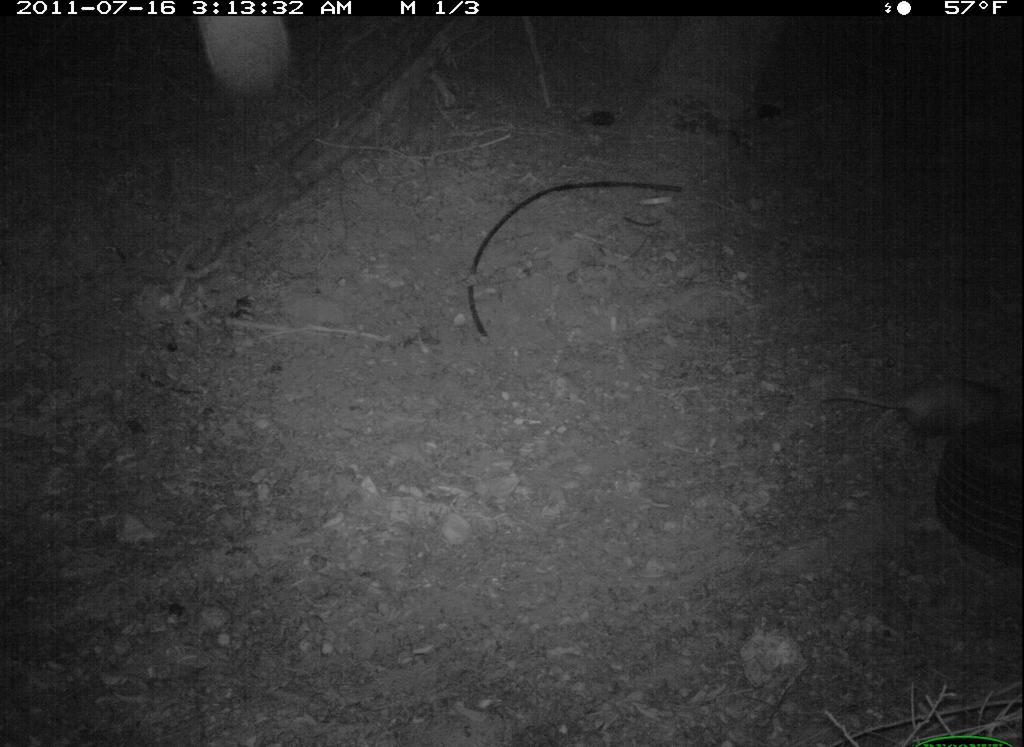opossum: (812, 336, 1019, 428)
